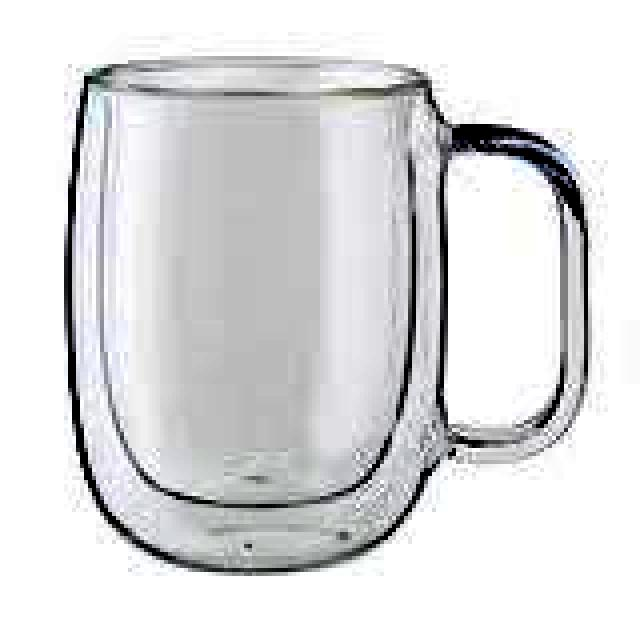Glass: (59, 45, 451, 585)
